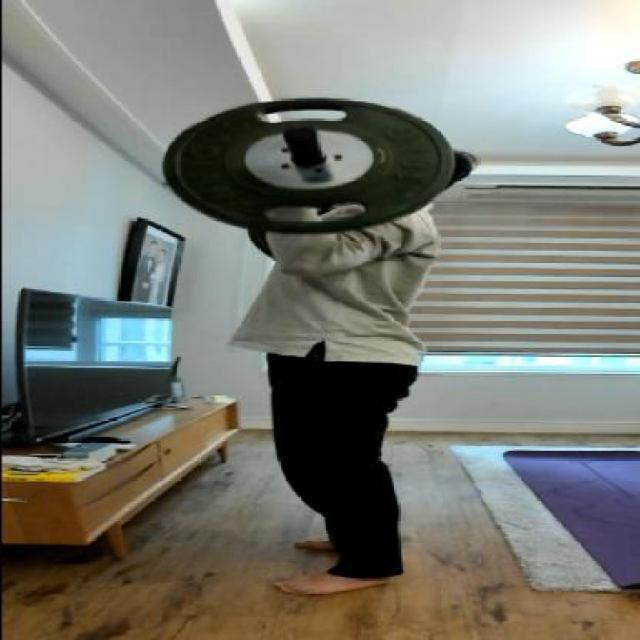Barbell: (280, 122, 326, 144)
